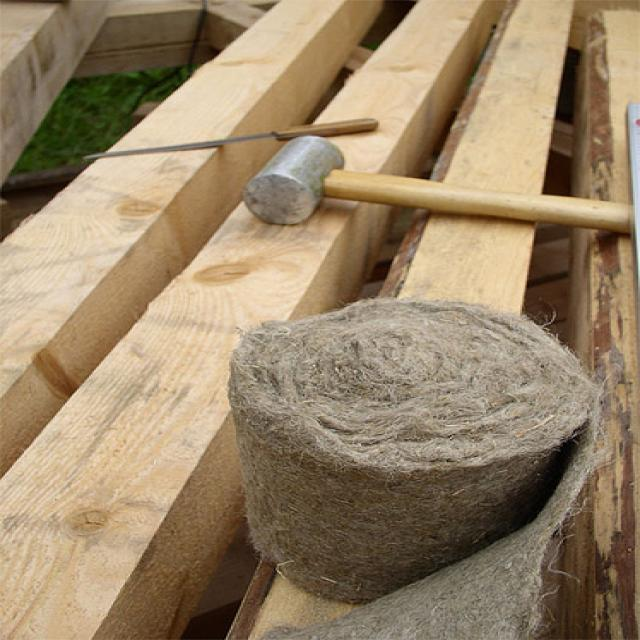hammer: (235, 130, 640, 232)
